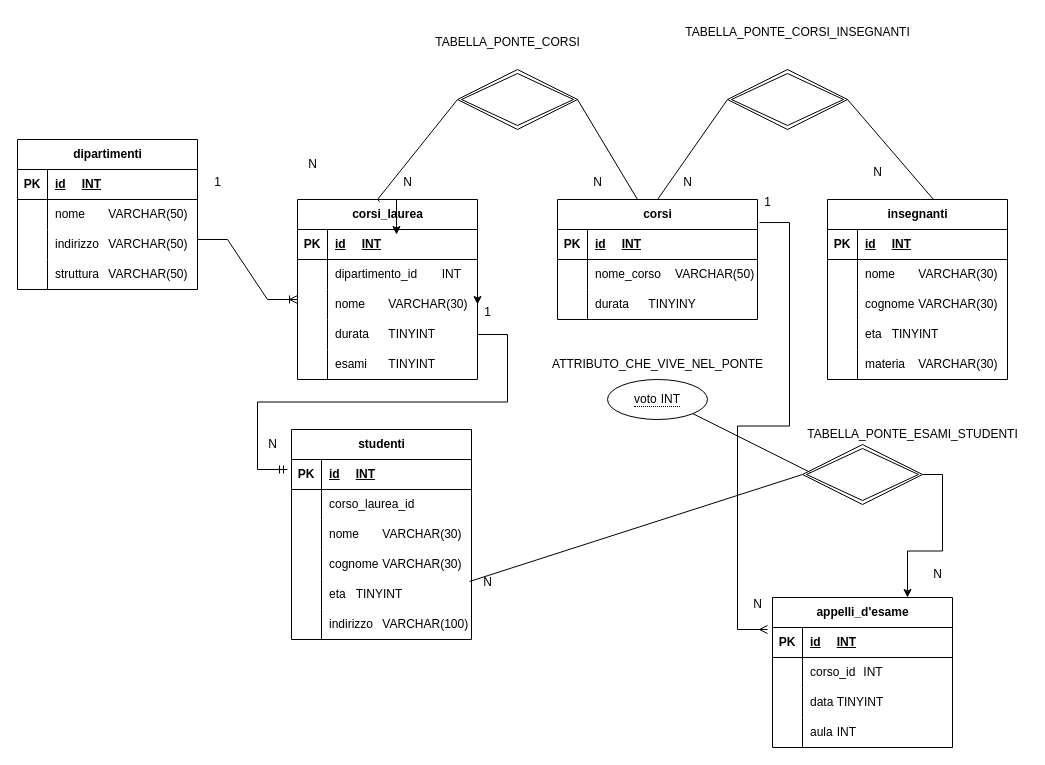
Image size: 1045x765. Some labels were removed from this diagram. Each missing label, with the centre of its shape:
corso_laurea_id corso_id: (517,99)
corso_laurea_id insegnante_id: (787,99)
studente_id appello_esame_id: (862,474)
